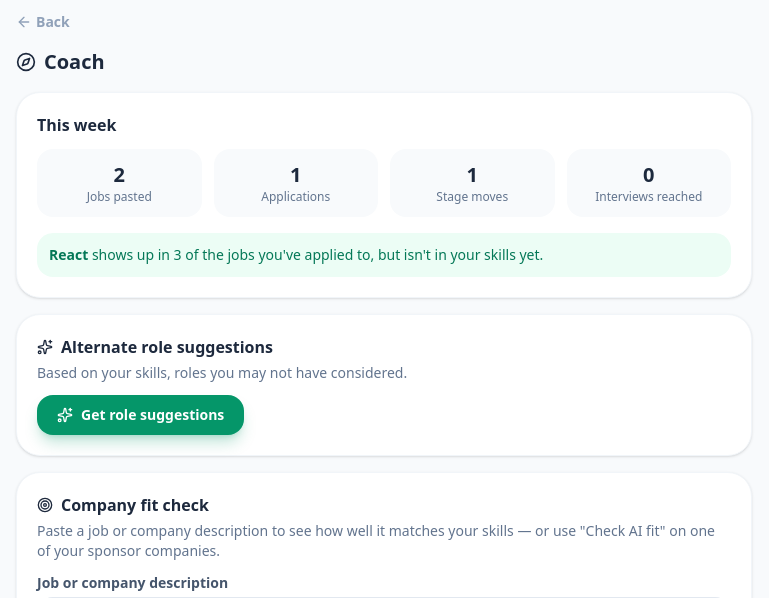
Test: Coach › gets and renders role suggestions when a key is set
Click the button "Get role suggestions": click(141, 415) [37,395,244,435]
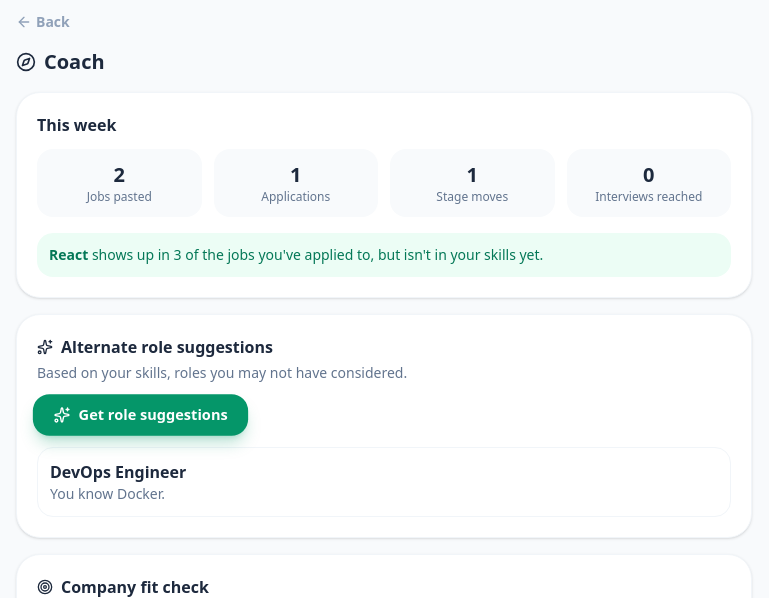
Now the text "DevOps Engineer" is shown, box [50,461,186,483]
Now the text "You know Docker." is shown, box [50,484,165,503]
